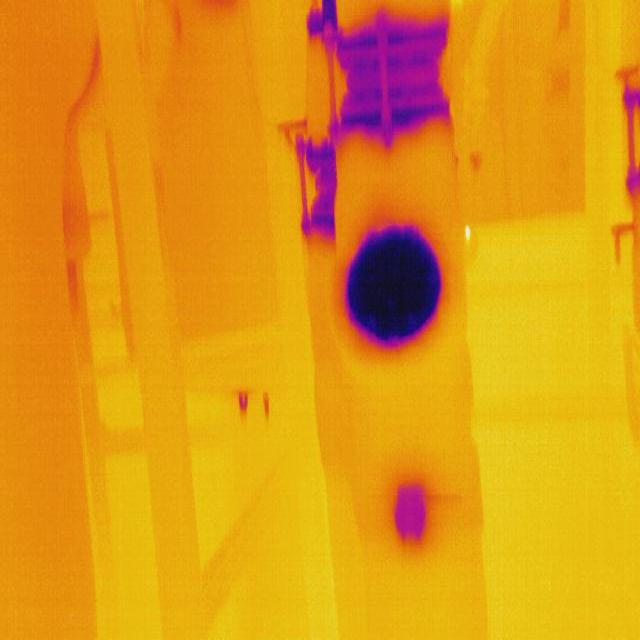leakage: (390, 480, 440, 548)
